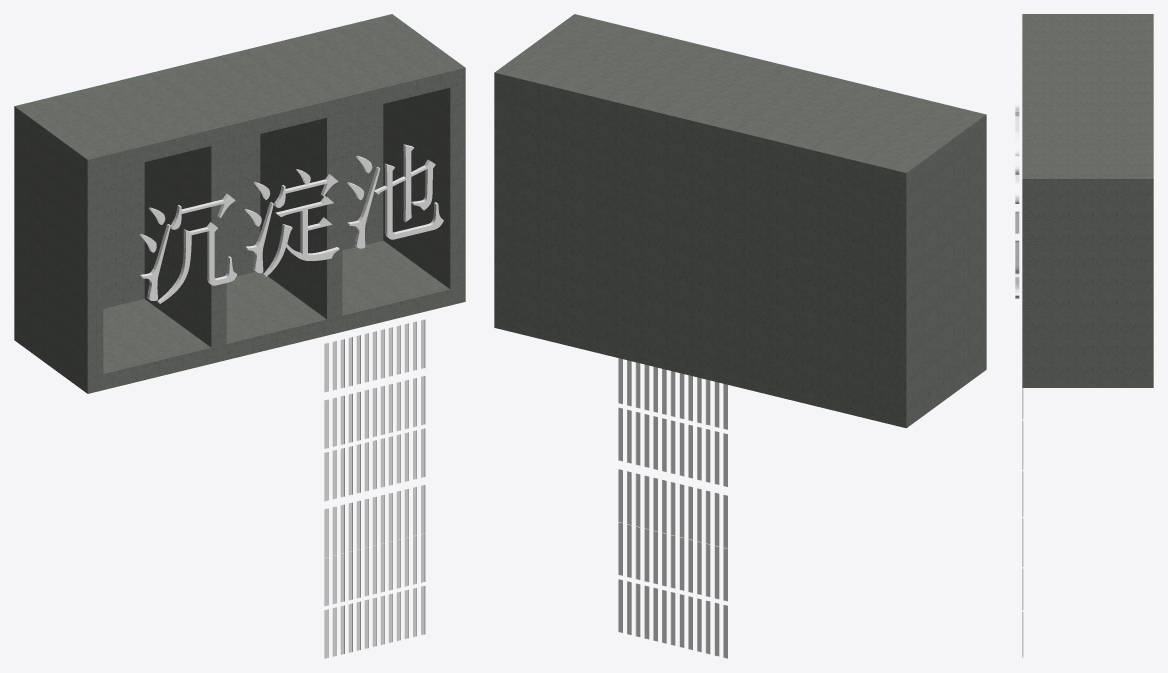
3 renders of one model, left to right at view 1: azimuth 30°, elevation 25°; view 2: azimuth 150°, elevation 25°; view 3: azimuth 270°, elevation 25°, orthographic. The views are drawn at different scales.
Parts seen in each view (by area): view 1: 0_0_2_1_2_2_1; view 2: 0_0_2_1_2_2_1; view 3: 0_0_2_1_2_2_1.
Part boxes in pixels (bbox=[...]): 0_0_2_1_2_2_1: bbox=[14, 14, 465, 658]; 0_0_2_1_2_2_1: bbox=[494, 14, 986, 658]; 0_0_2_1_2_2_1: bbox=[1015, 14, 1153, 658].
Bounding box in the file's own units: 4.9 × 6.9 × 1.74.
14 materials, 7 textured.
